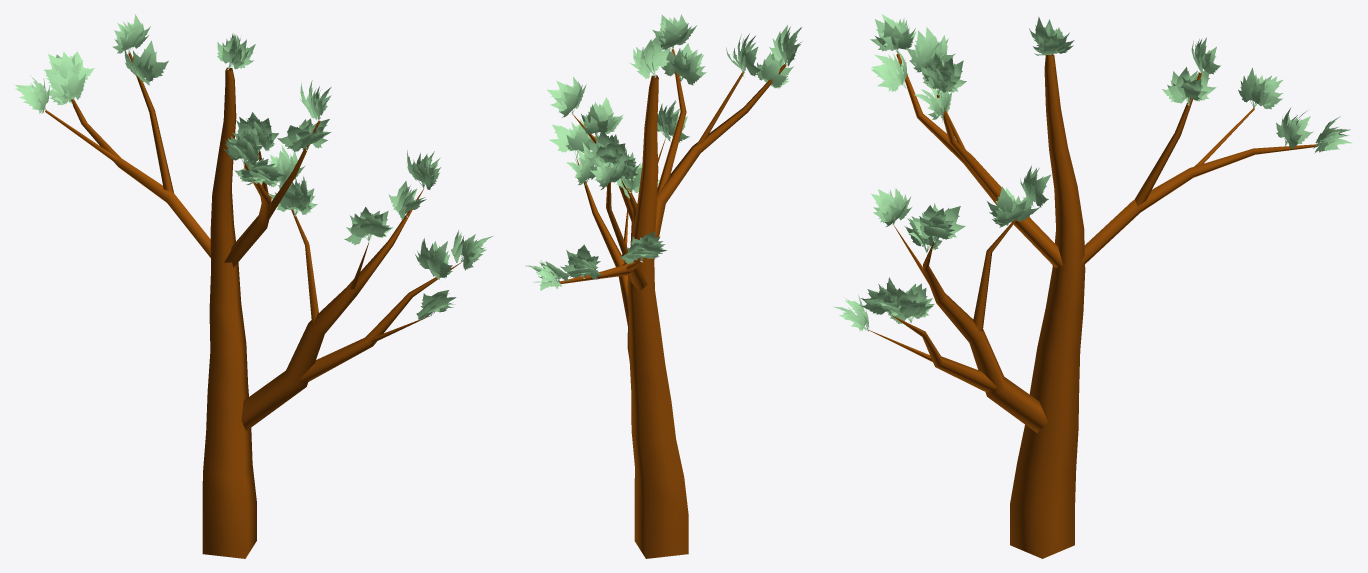
The model's file is FinalTree20.fbx.
The picture shows the model from 3 angles, left to right: view 1: azimuth 30°, elevation 25°; view 2: azimuth 150°, elevation 25°; view 3: azimuth 270°, elevation 25°; orthographic projection. The views are drawn at different scales.
Parts seen in each view (by area): view 1: Árbol; view 2: Árbol, Hojas|palmate.003|Dupli|85, Hojas|palmate.003|Dupli|; view 3: Árbol.
Part boxes in pixels (box(x1,y1,x2,y2)): Árbol: box(45, 52, 460, 558); Árbol: box(560, 49, 786, 558); Hojas|palmate.003|Dupli|85: box(760, 59, 787, 87); Hojas|palmate.003|Dupli|: box(634, 39, 663, 76); Árbol: box(869, 53, 1317, 558).
Size of the model in its own units: 264 by 442 by 392.
